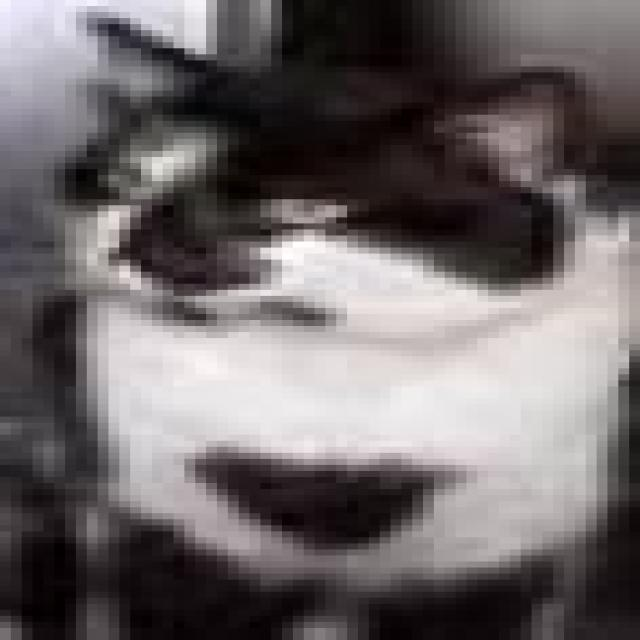cat: (43, 0, 630, 634)
